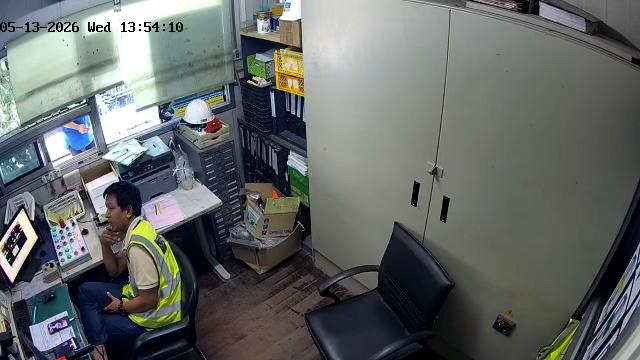Head: (103, 181, 141, 231)
People: (78, 182, 180, 358)
Phone: (53, 337, 79, 359), (48, 316, 70, 334)
